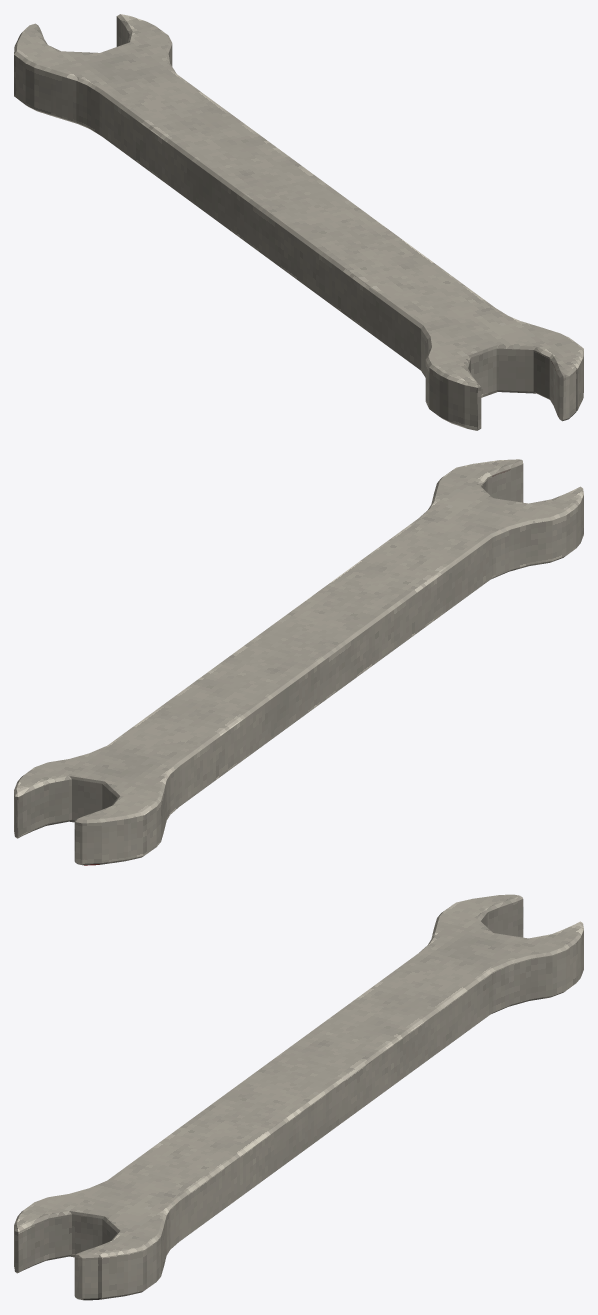
The model's file is loose_wrench.glb.
The picture shows the model from 3 angles, top to bottom: view 1: azimuth 30°, elevation 25°; view 2: azimuth 150°, elevation 25°; view 3: azimuth 330°, elevation 25°; orthographic projection. The views are drawn at different scales.
Visible parts, largest first — view 1: loose_wrench; view 2: loose_wrench; view 3: loose_wrench.
Boxes of the visible parts, x1,y1,x2,y2 form: loose_wrench: [14, 14, 583, 430]; loose_wrench: [14, 459, 583, 865]; loose_wrench: [14, 894, 583, 1300].
Bounding box in the file's own units: 0.0435 × 0.0135 × 0.2578.
Materials: 1 (1 with a texture image).
